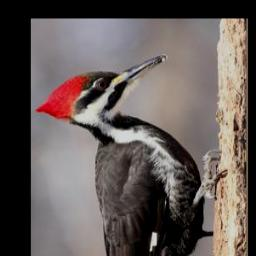Woodpecker: (35, 51, 223, 256)
